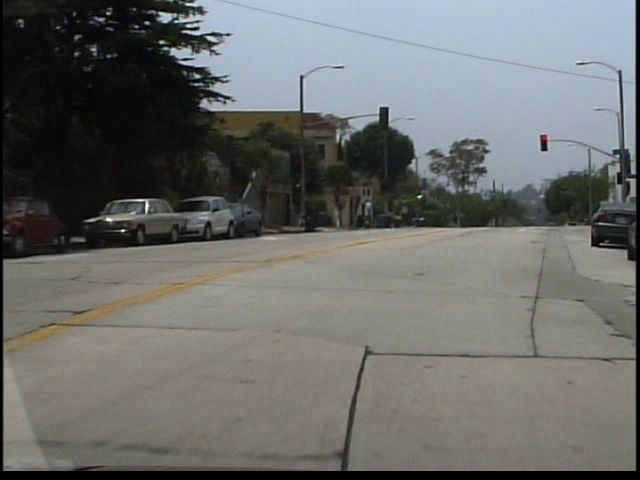person: (366, 199, 379, 232), (338, 204, 347, 230)
